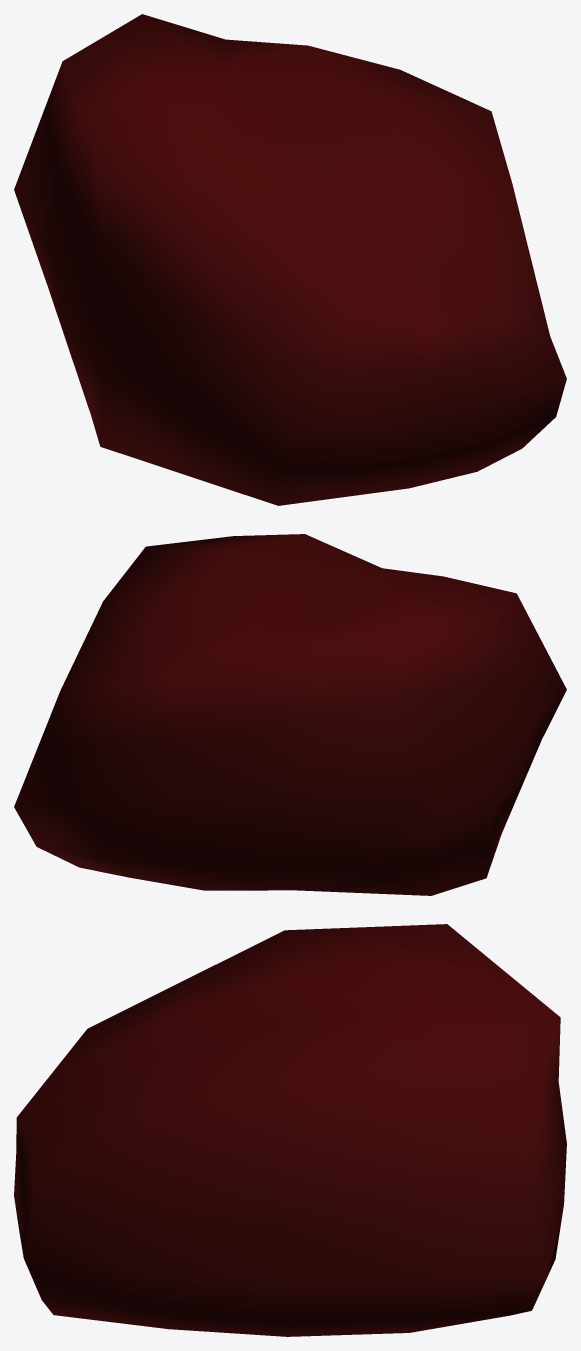
File: geology-pebbles-dirtchunk_v5.fbx
The picture shows the model from 3 angles, top to bottom: view 1: azimuth 30°, elevation 25°; view 2: azimuth 150°, elevation 25°; view 3: azimuth 270°, elevation 25°; orthographic projection. The views are drawn at different scales.
Parts seen in each view (by area): view 1: DirtChunk_v5; view 2: DirtChunk_v5; view 3: DirtChunk_v5.
Boxes of the visible parts, bbox=[...] form: DirtChunk_v5: bbox=[14, 14, 566, 505]; DirtChunk_v5: bbox=[14, 534, 566, 895]; DirtChunk_v5: bbox=[14, 924, 566, 1336].
Size of the model in its own units: 5.92 by 4.34 by 7.47.
